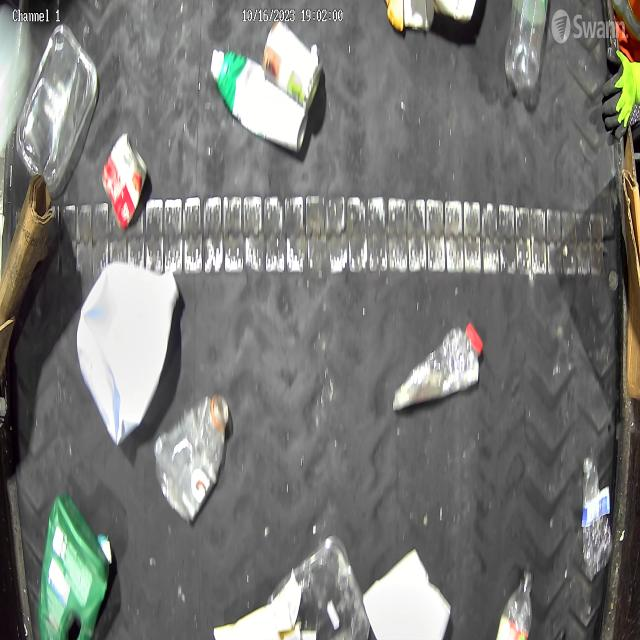can: (262, 19, 322, 111), (100, 131, 149, 230)
milk_jug: (76, 262, 180, 447)
non_white_jug: (38, 492, 112, 640)
plastic_bottle: (152, 390, 231, 524), (391, 319, 484, 413), (580, 453, 614, 580), (502, 0, 548, 93), (496, 561, 536, 640)
